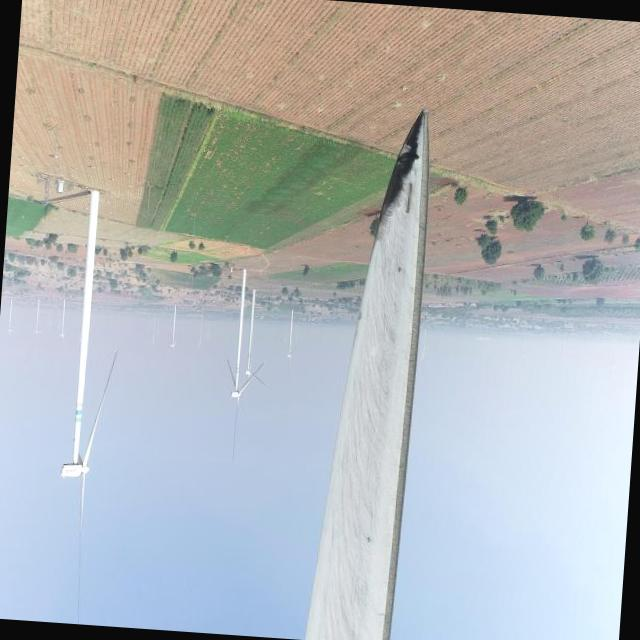Dirt: (307, 110, 430, 640)
Oil LEAKAGE: (373, 112, 425, 232)
Pin Hole: (364, 530, 376, 550), (395, 262, 407, 276), (411, 150, 423, 162)
